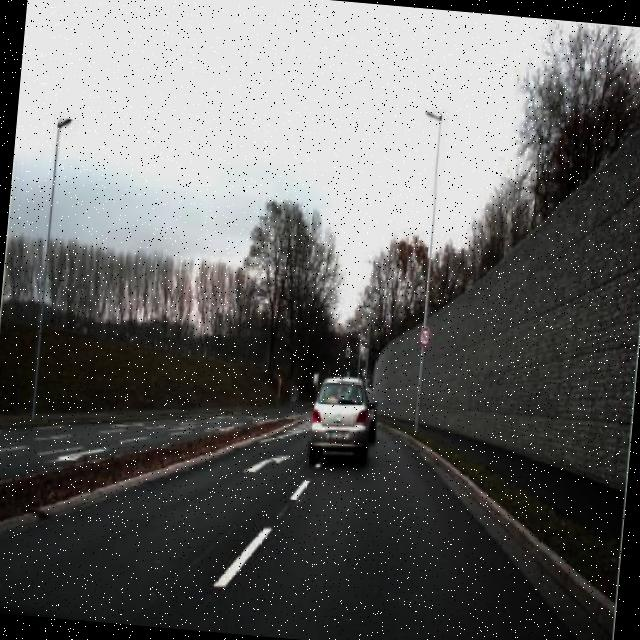Ograniczenie predkosci do 50: (417, 324, 433, 348)
